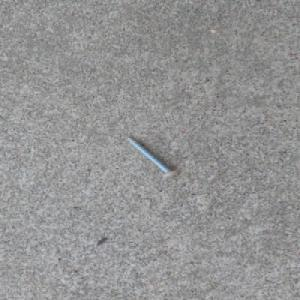Screw: (124, 135, 180, 178)
